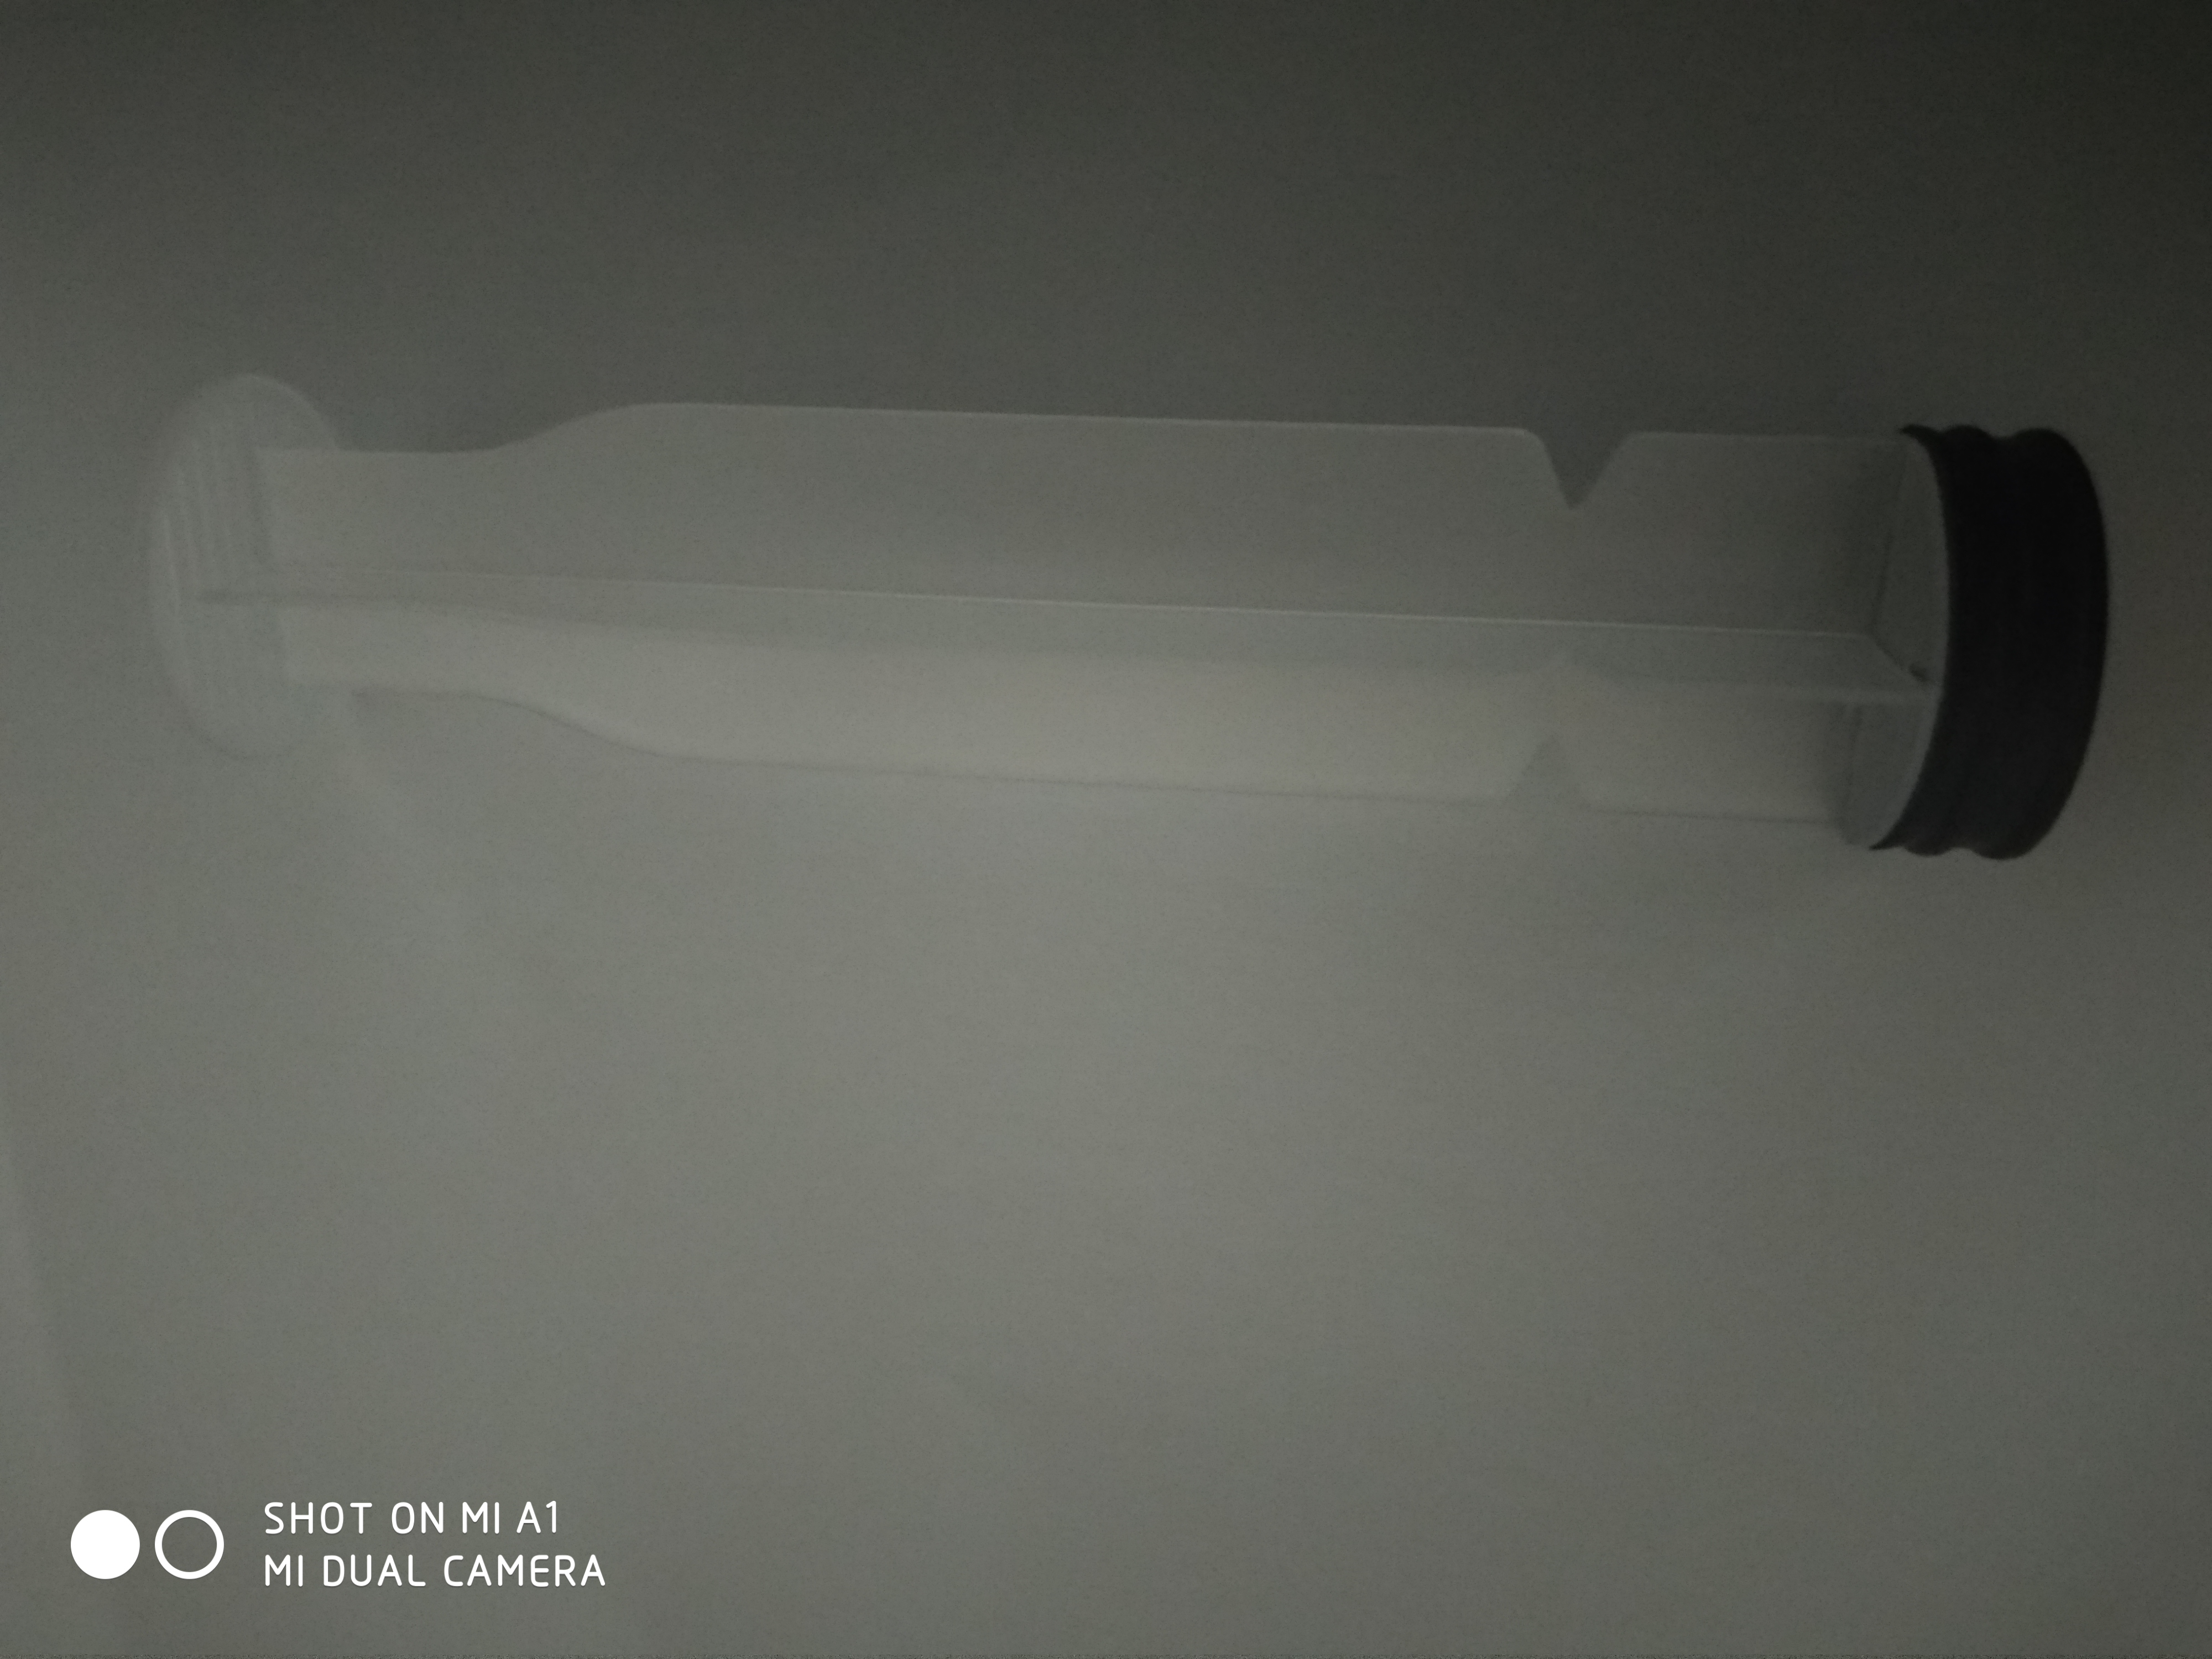plunger: (132, 362, 2121, 870)
